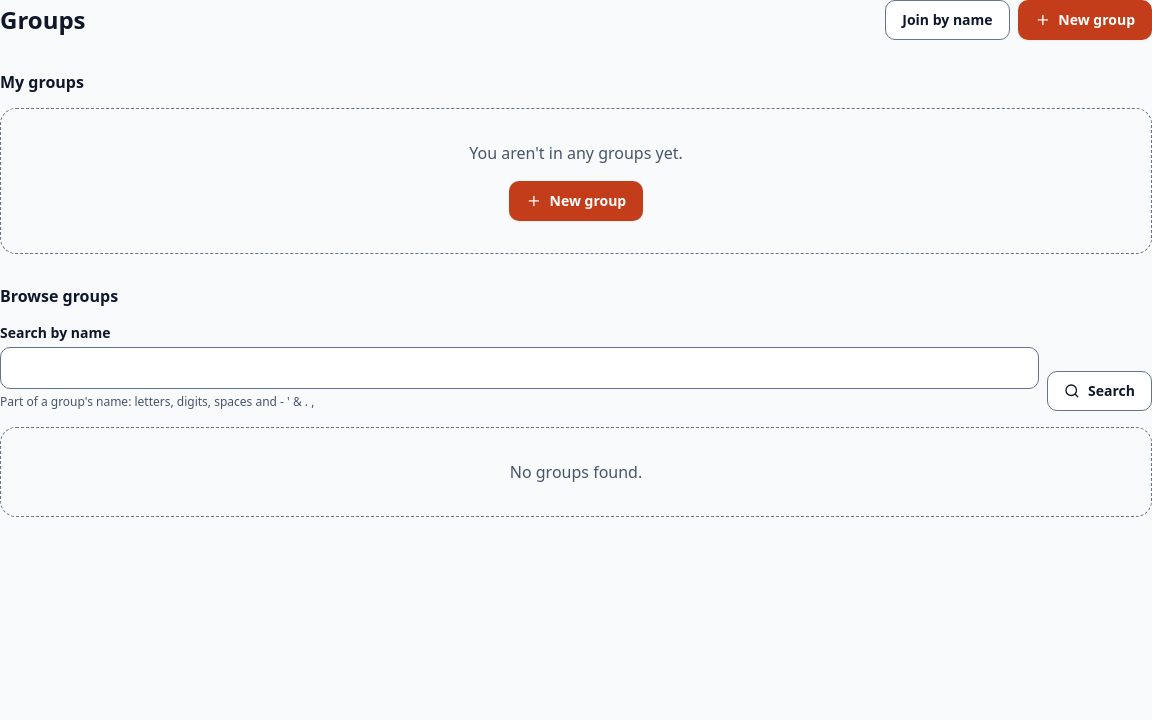
it: home header › opens Join by name with the group name field focused
Expected: the text "You aren't in any groups yet." is shown, [469,141,683,165]
Expected: the text "No groups found." is shown, [510,460,642,484]
Click the button "Join by name".
click(947, 20)  # box [885,0,1010,40]
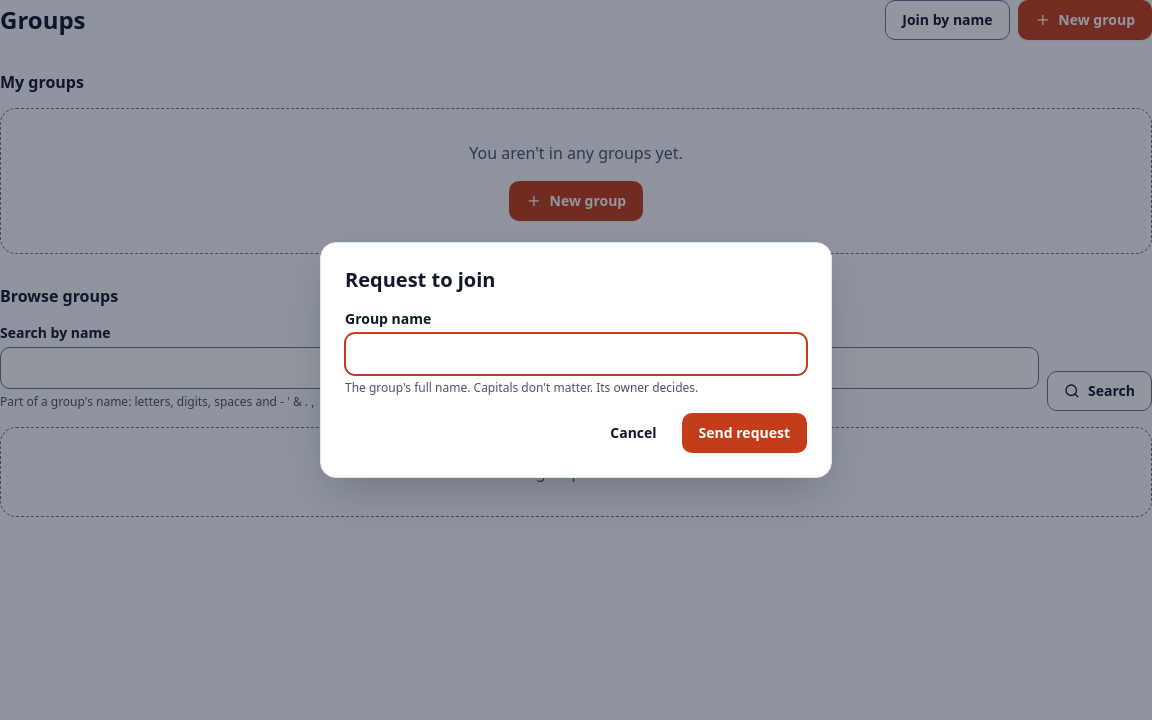
Now the dialog "Request to join" is shown, box [320,242,832,478]
